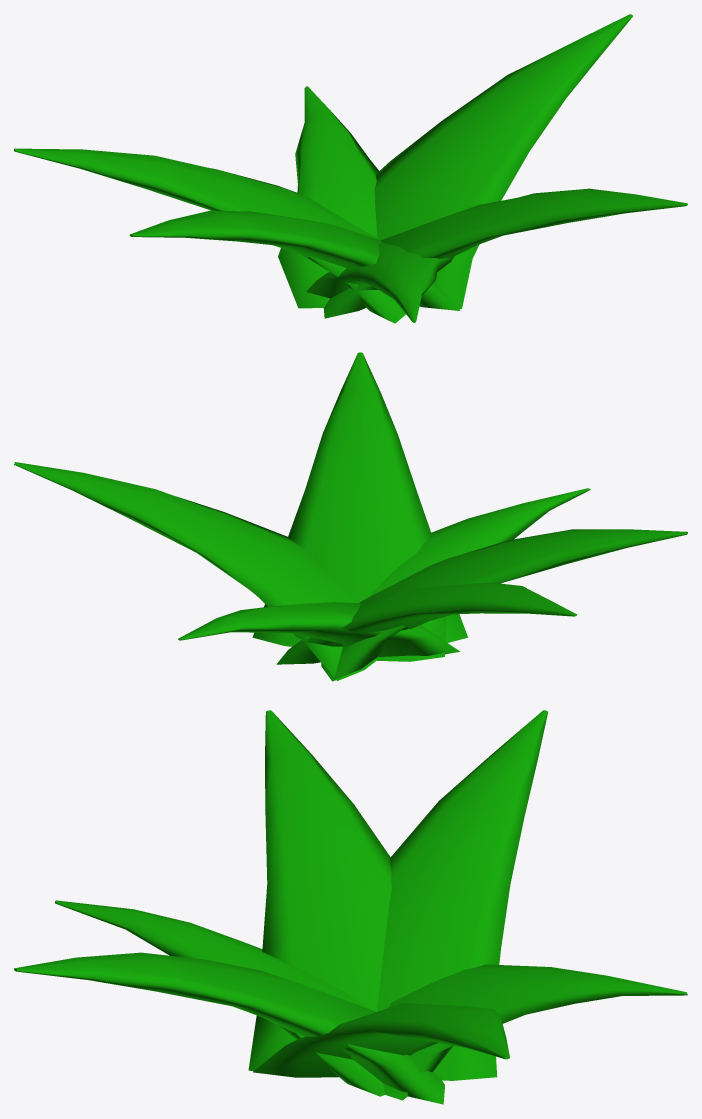
The model's file is GrassMedium.FBX.
3 renders of one model, top to bottom at view 1: azimuth 30°, elevation 25°; view 2: azimuth 150°, elevation 25°; view 3: azimuth 270°, elevation 25°, orthographic. The views are drawn at different scales.
Parts seen in each view (by area): view 1: Loft029, Loft026, Loft027, Loft030, Loft028, Loft025; view 2: Loft027, Loft029, Loft028, Loft026, Loft030, Loft025; view 3: Loft026, Loft028, Loft027, Loft029, Loft030, Loft025.
Boxes of the visible parts, x1,y1,x2,y2 form: Loft029: [374, 14, 632, 308]; Loft026: [14, 148, 405, 323]; Loft027: [323, 188, 687, 318]; Loft030: [278, 86, 378, 308]; Loft028: [129, 210, 460, 310]; Loft025: [306, 242, 454, 322]; Loft027: [252, 352, 467, 646]; Loft029: [14, 462, 376, 680]; Loft028: [321, 529, 687, 681]; Loft026: [276, 582, 576, 664]; Loft030: [178, 602, 460, 656]; Loft025: [368, 488, 590, 661]; Loft026: [377, 710, 547, 1080]; Loft028: [248, 710, 391, 1071]; Loft027: [14, 952, 444, 1104]; Loft029: [253, 1003, 509, 1077]; Loft030: [383, 964, 687, 1100]; Loft025: [55, 900, 384, 1096].
Bounding box in the file's own units: 0.228 × 0.0537 × 0.1869.
